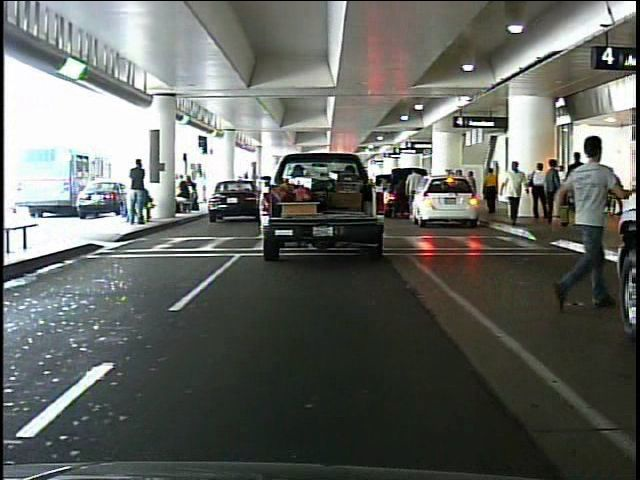person: (543, 116, 625, 326), (567, 143, 595, 231), (500, 158, 531, 229), (130, 157, 154, 227), (541, 152, 561, 233), (528, 161, 550, 223), (403, 164, 425, 219), (483, 164, 502, 216), (608, 163, 615, 194)
